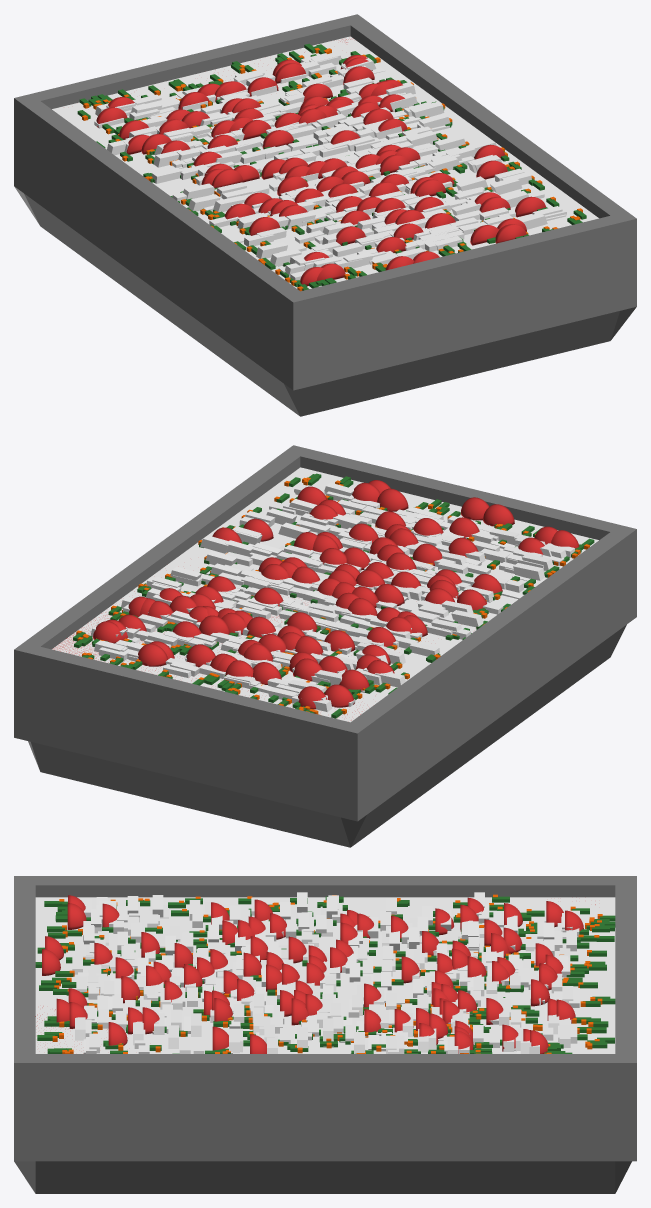
File: Bowls.fbx
3 views of the same model, one above another, from view 1: azimuth 30°, elevation 25°; view 2: azimuth 150°, elevation 25°; view 3: azimuth 270°, elevation 25° (orthographic). The views are drawn at different scales.
Visible parts, largest first — view 1: Holder, Cheese, Tomato, Pepper, Spicy; view 2: Holder, Cheese, Tomato, Pepper, Spicy; view 3: Holder, Cheese, Tomato, Pepper, Spicy.
Part boxes in pixels (bbox=[...]): Holder: bbox=[14, 14, 636, 416]; Cheese: bbox=[52, 36, 598, 288]; Tomato: bbox=[96, 38, 545, 285]; Pepper: bbox=[77, 43, 586, 290]; Spicy: bbox=[82, 48, 582, 291]; Holder: bbox=[14, 445, 636, 847]; Cheese: bbox=[52, 467, 598, 722]; Tomato: bbox=[53, 480, 579, 720]; Pepper: bbox=[73, 473, 594, 718]; Spicy: bbox=[76, 477, 589, 714]; Holder: bbox=[14, 876, 636, 1193]; Cheese: bbox=[35, 892, 615, 1053]; Tomato: bbox=[35, 895, 595, 1053]; Pepper: bbox=[35, 896, 615, 1053]; Spicy: bbox=[52, 894, 602, 1053].
Size of the model in its own units: 205 by 74.26 by 289.
